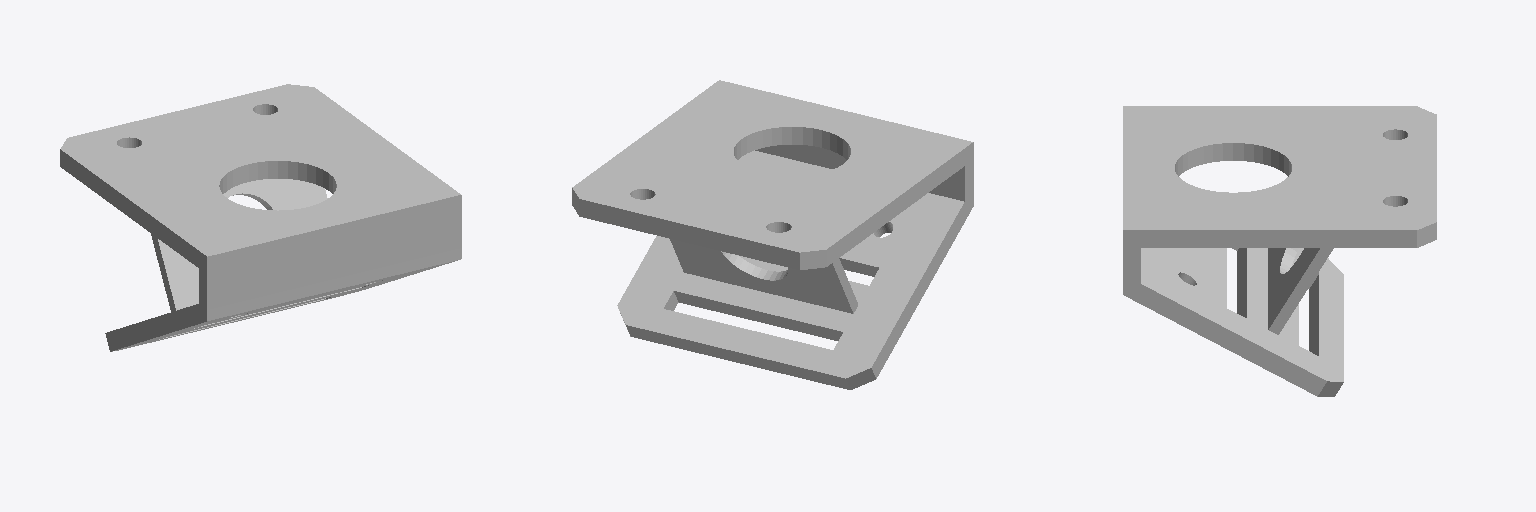
The model's file is MFDAngleMount.obj.
3 views of the same model, side by side, from view 1: azimuth 30°, elevation 25°; view 2: azimuth 150°, elevation 25°; view 3: azimuth 270°, elevation 25° (orthographic).
Visible parts, largest first — view 1: Box001; view 2: Box001; view 3: Box001.
Boxes of the visible parts, <box> form: Box001: <box>60,84,461,351</box>; Box001: <box>572,80,973,389</box>; Box001: <box>1123,106,1436,396</box>.
Size of the model in its own units: 74.9 by 49.33 by 80.02.